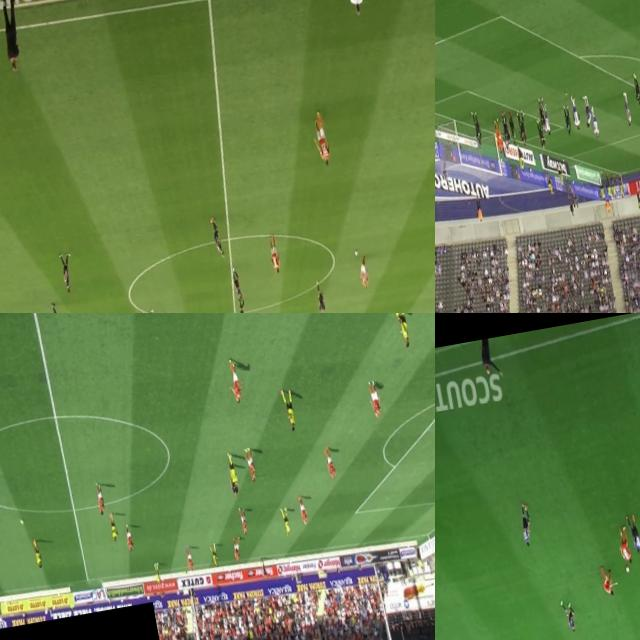ball: (18, 516, 28, 531), (352, 248, 360, 256), (625, 566, 631, 576)
player: (223, 354, 247, 414), (311, 113, 332, 168), (278, 380, 298, 434), (242, 450, 260, 490), (58, 252, 74, 296), (296, 486, 312, 530), (518, 507, 535, 548), (268, 235, 284, 278), (626, 510, 640, 557), (208, 218, 224, 259), (310, 277, 328, 313), (230, 267, 245, 308), (355, 252, 370, 293), (276, 504, 294, 538), (121, 526, 138, 560), (600, 564, 616, 600), (618, 527, 632, 566), (321, 445, 337, 479), (94, 479, 108, 517), (226, 450, 240, 488), (393, 313, 409, 346), (149, 555, 165, 588), (181, 546, 198, 576), (367, 382, 381, 418), (562, 600, 576, 636), (206, 540, 222, 569), (235, 507, 250, 537), (580, 91, 592, 128), (621, 91, 633, 128), (470, 110, 482, 146), (516, 111, 528, 147), (31, 540, 44, 570), (588, 105, 600, 137), (630, 71, 640, 107), (494, 118, 504, 153), (501, 112, 511, 146), (230, 536, 242, 564), (500, 118, 510, 151), (108, 512, 119, 542), (507, 114, 517, 146), (536, 100, 546, 132), (562, 104, 572, 136), (570, 99, 580, 131), (537, 119, 546, 151), (541, 106, 550, 135), (518, 115, 527, 143)
